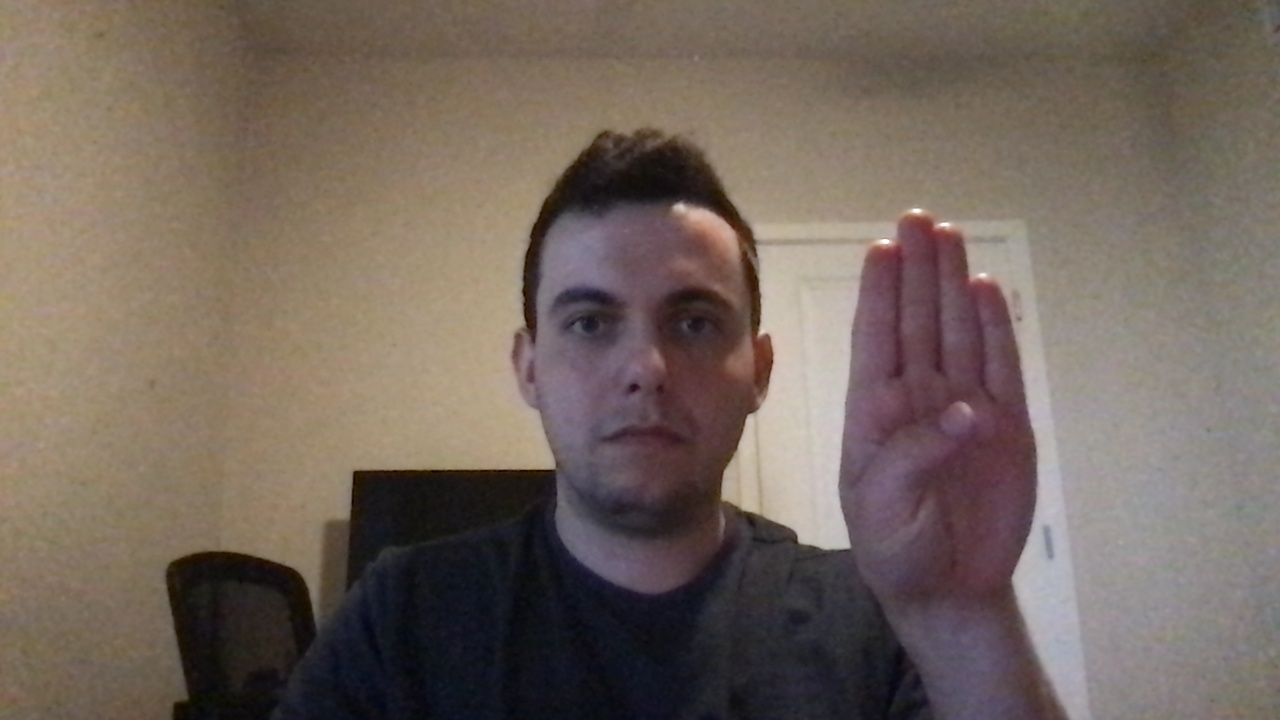b: (831, 199, 1056, 602)
